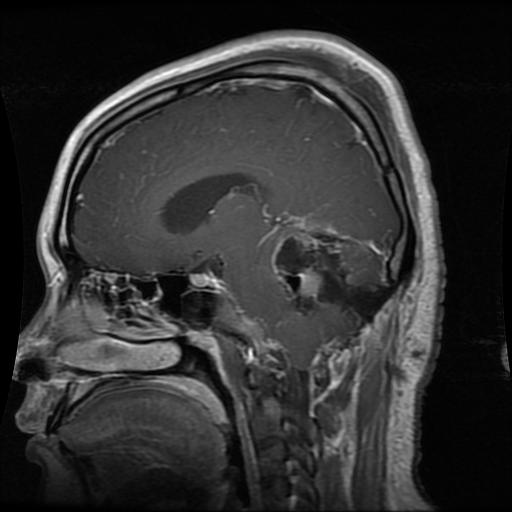Gliomia_tumour: (272, 230, 382, 320)
